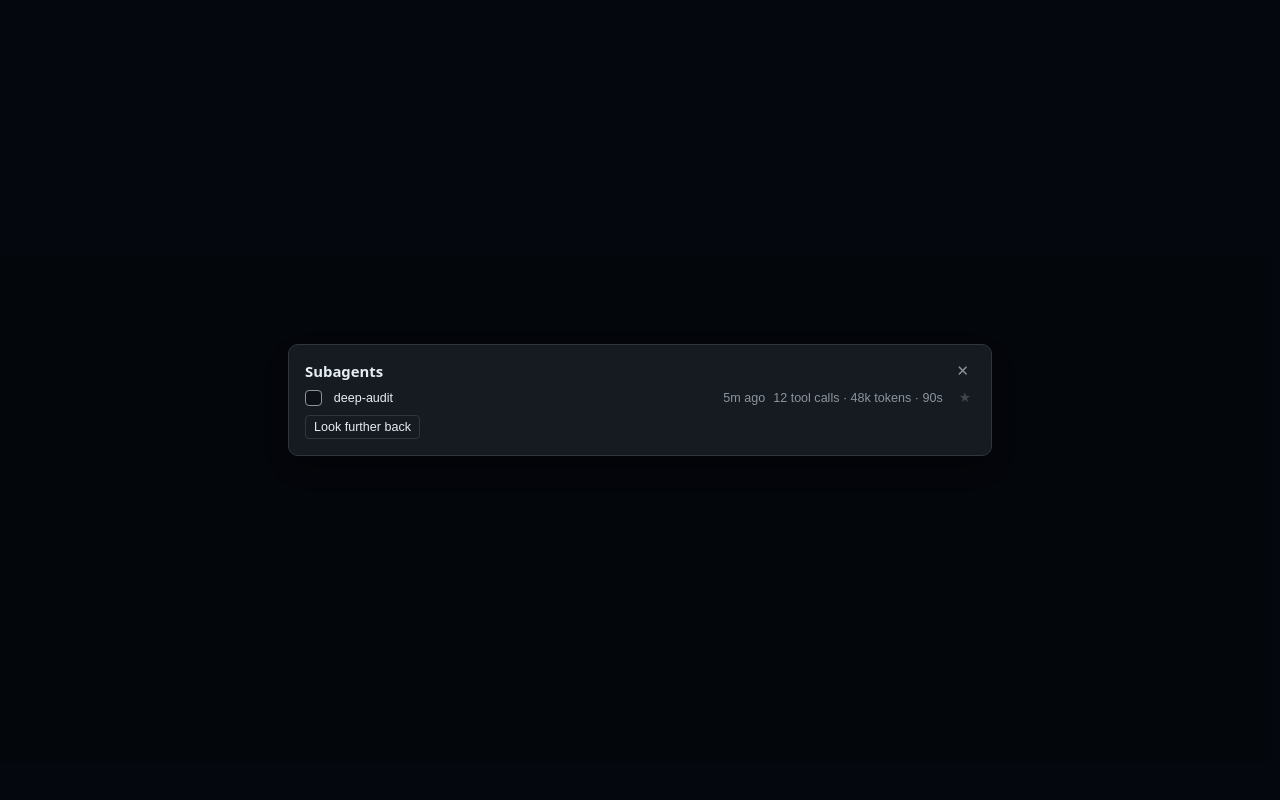
Test case: finding the tasks a session delegated › the rest of the log › adds to the list rather than replacing it
Click the button "Look further back": coordinates (362, 427) x1=305 y1=415 x2=420 y2=439
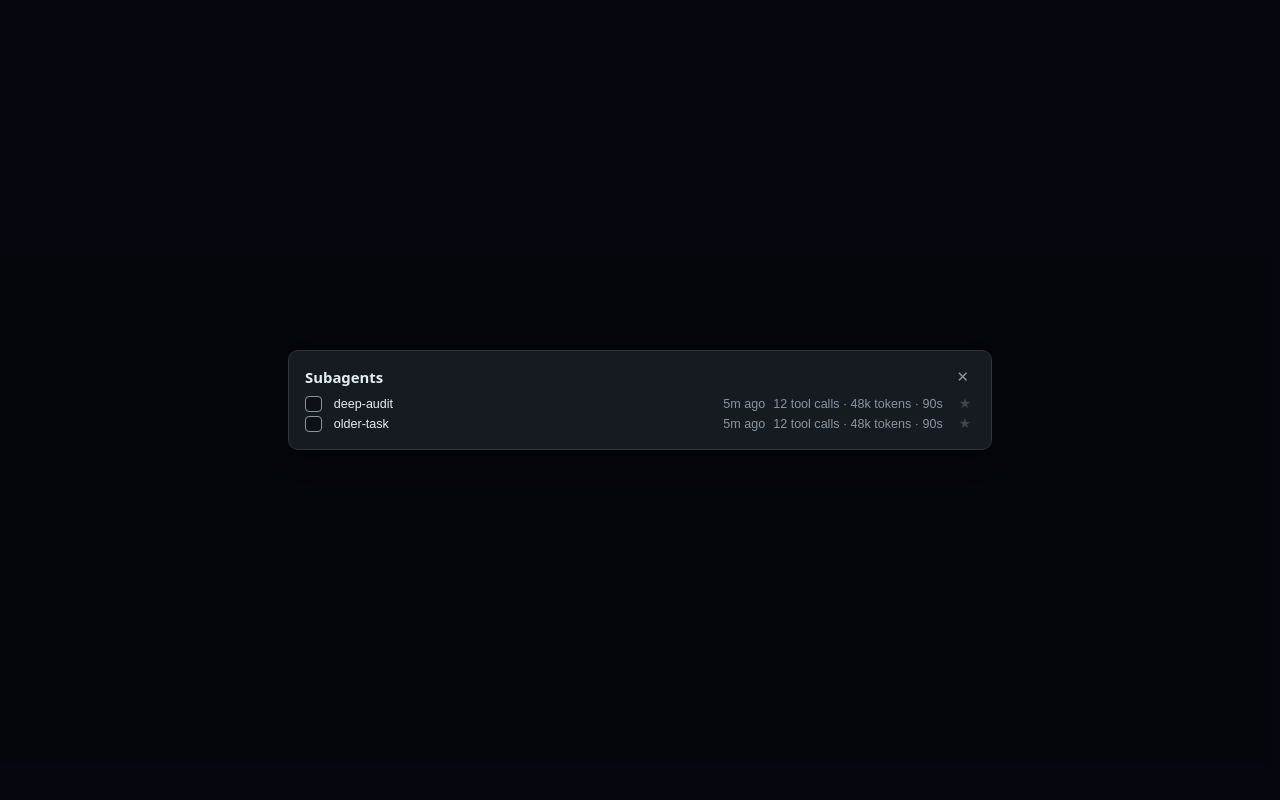
Expected: the text "deep-audit" is shown, x1=334 y1=397 x2=393 y2=411
Expected: the text "older-task" is shown, x1=334 y1=417 x2=389 y2=431
